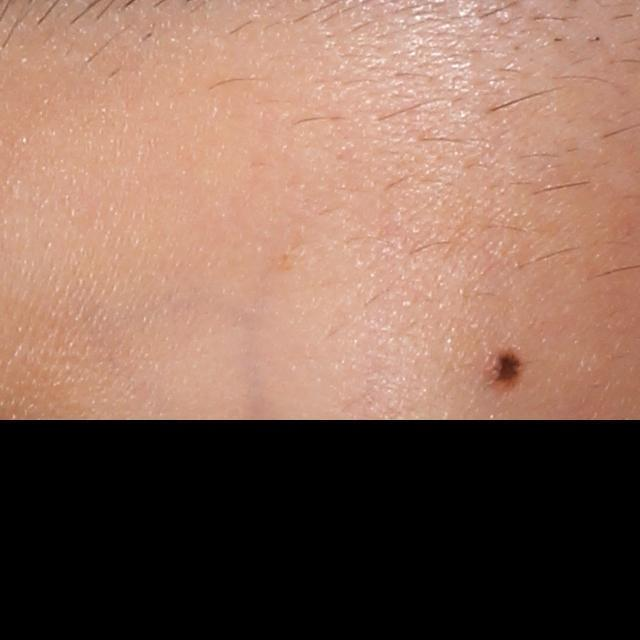nevus: (493, 351, 521, 387)
